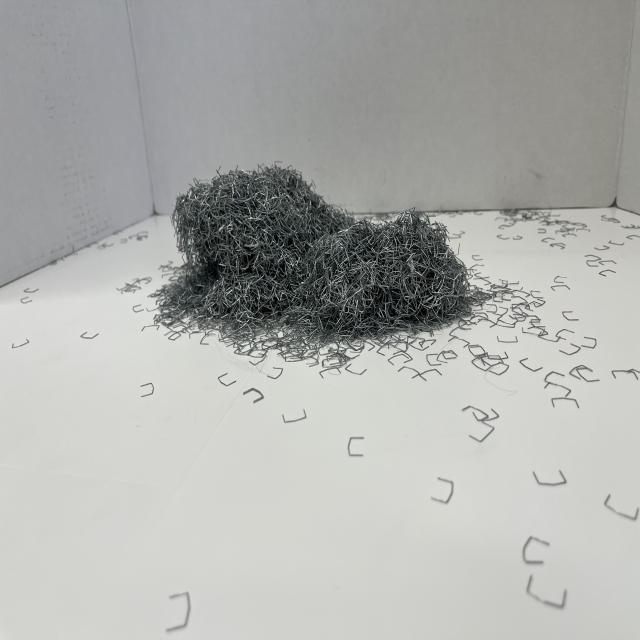staples: (157, 160, 481, 338)
